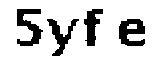5: (13, 4, 45, 49)
e: (116, 16, 151, 51)
f: (81, 6, 111, 53)
y: (46, 14, 81, 60)
